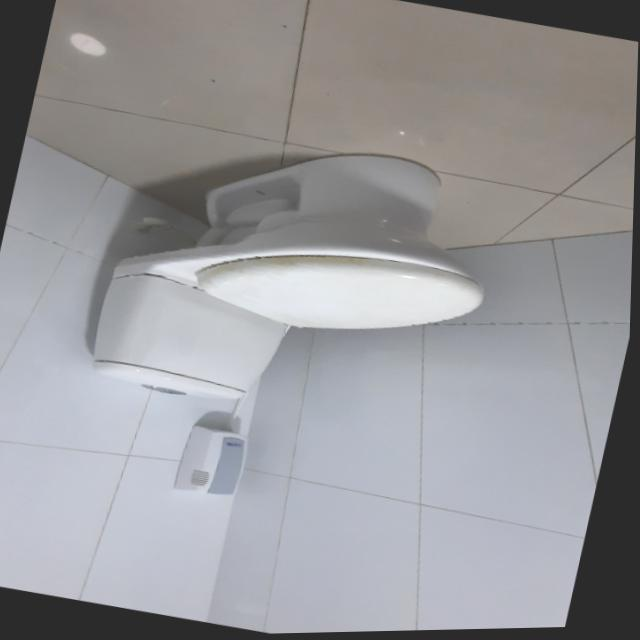toilet: (85, 108, 514, 452)
